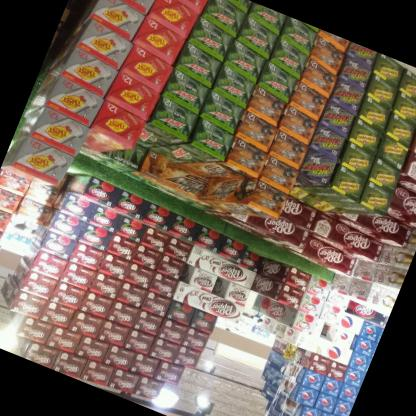empty_space: (0, 175, 51, 278)
